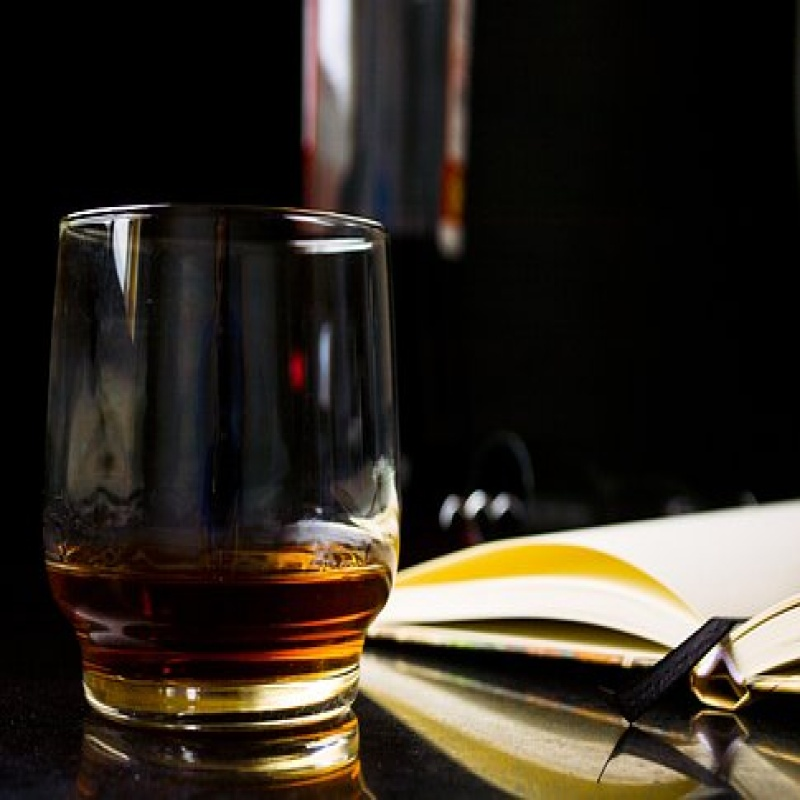whiskey: (45, 202, 409, 749)
